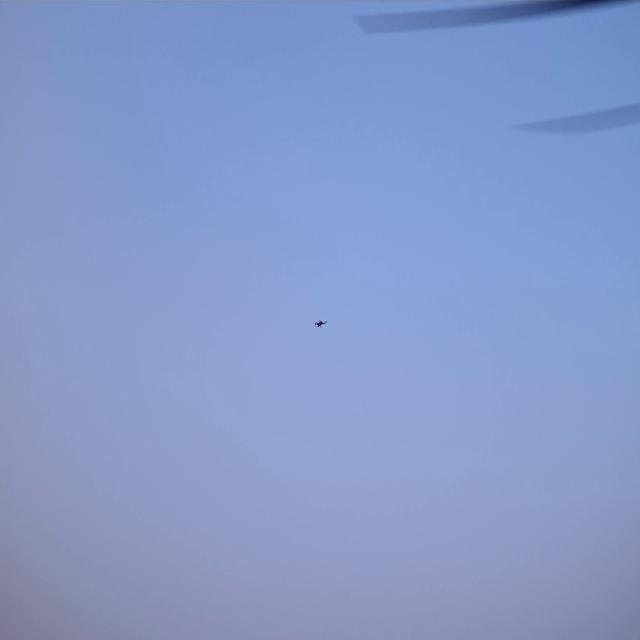UAV: (313, 320, 327, 329)
